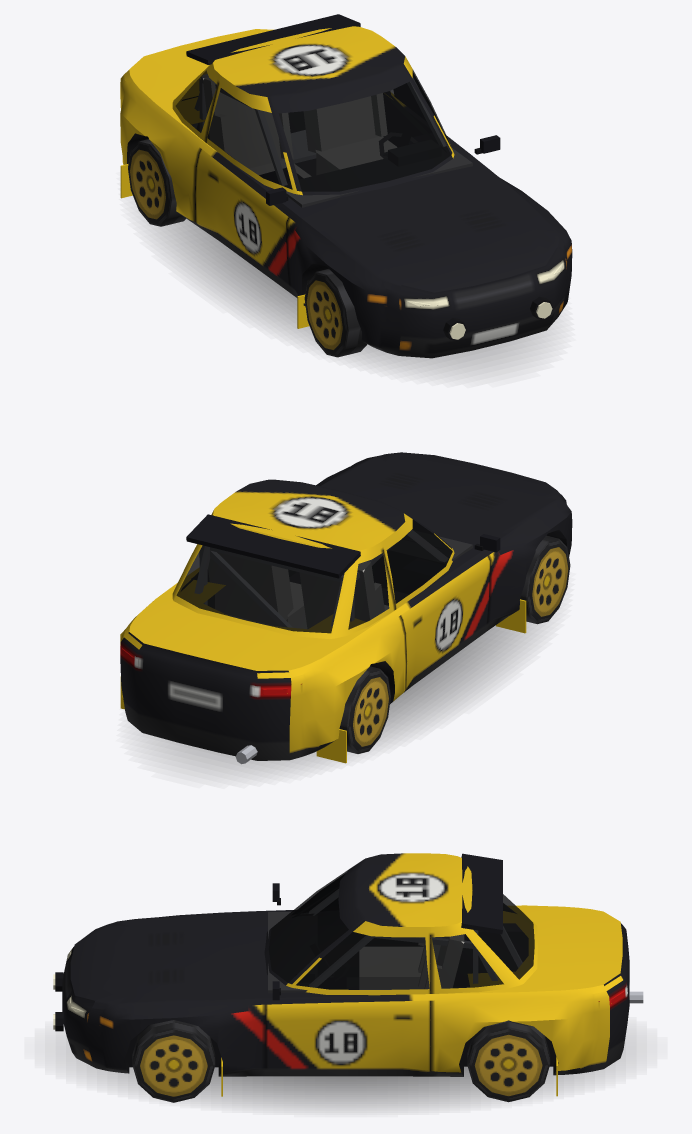
File: chispa.glb
3 renders of one model, top to bottom at view 1: azimuth 30°, elevation 25°; view 2: azimuth 150°, elevation 25°; view 3: azimuth 270°, elevation 25°, orthographic. The views are drawn at different scales.
Visible parts, largest first — view 1: Carroceria, Capo_malha, Interior, Porta_D_malha, Sombra, Roda_DD, Roda_TD, Tampa_malha, Porta_E_malha; view 2: Carroceria, Interior, Capo_malha, Porta_D_malha, Sombra, Tampa_malha, Roda_TD, Roda_DD; view 3: Carroceria, Porta_E_malha, Capo_malha, Interior, Sombra, Tampa_malha, Roda_DE, Roda_TE, Porta_D_malha.
Part boxes in pixels (x1,y1,x2,y2): Carroceria: (120,14,572,358); Capo_malha: (309,174,563,292); Interior: (182,74,472,207); Porta_D_malha: (194,75,297,285); Sombra: (152,219,545,372); Roda_DD: (304,269,367,357); Roda_TD: (128,139,185,226); Tampa_malha: (124,29,273,91); Porta_E_malha: (394,56,500,155); Carroceria: (120,455,572,764); Interior: (181,530,472,628); Capo_malha: (326,452,563,539); Porta_D_malha: (381,512,500,688); Sombra: (146,622,539,773); Tampa_malha: (124,610,324,678); Roda_TD: (339,666,390,753); Roda_DD: (520,535,570,624); Carroceria: (53,853,643,1096); Porta_E_malha: (265,920,431,1071); Capo_malha: (76,914,248,1009); Interior: (268,887,527,993); Sombra: (66,1037,625,1108); Tampa_malha: (552,907,622,993); Roda_DE: (132,1020,215,1102); Roda_TE: (467,1020,550,1102); Porta_D_malha: (272,874,344,914).
Size of the model in its own units: 2.44 by 1.31 by 4.8.
Materials: 14 (5 with a texture image).
